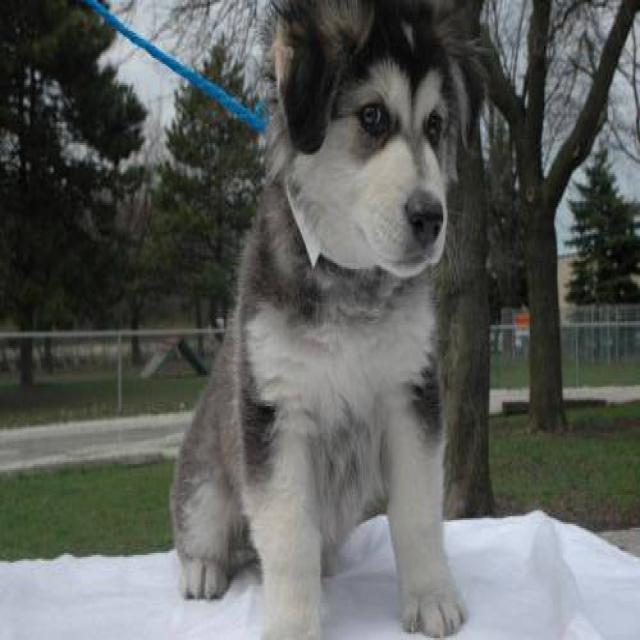dog: (168, 0, 492, 638)
